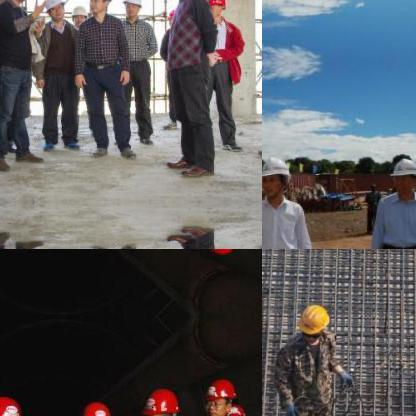Helmet: (200, 372, 234, 415), (298, 300, 332, 342), (139, 383, 182, 415), (262, 151, 289, 199), (389, 151, 415, 196), (80, 396, 113, 415), (68, 2, 90, 28), (42, 0, 66, 23), (205, 0, 228, 21), (0, 394, 23, 415), (121, 0, 145, 18), (86, 0, 113, 15), (200, 249, 236, 259), (224, 401, 246, 415)
